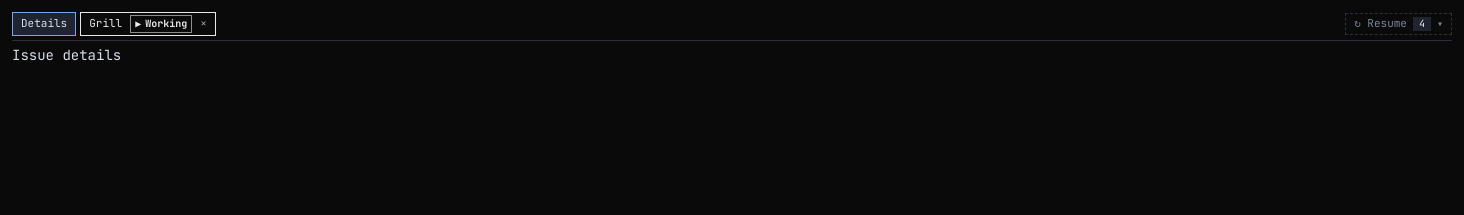
it: overhaul acceptance — terminals › [overhaul-111] gives dormant terminal chips the same launch identity as the tab for the same run
Click the button with test id "dormant-tabs-trigger" at (1399, 24), box left=1345, top=13, right=1452, bottom=35
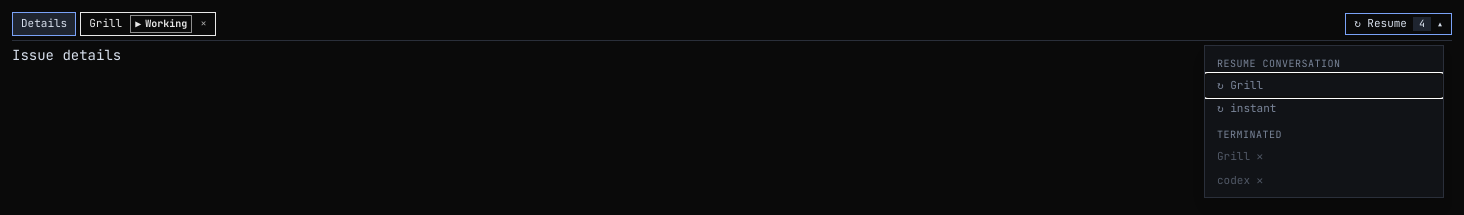
Result: the menu item with aria-label "Terminated Grill codex terminal" shows "Grill" at left=1217, top=149, right=1263, bottom=163
Result: the menu item with aria-label "Resume Grill codex terminal" shows "Grill" at left=1205, top=74, right=1443, bottom=97
Result: the menu item with aria-label "Resume instant codex terminal" shows "instant" at left=1205, top=97, right=1443, bottom=121
